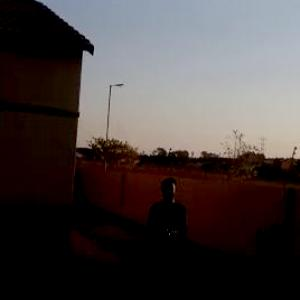follow: (139, 175, 190, 299)
